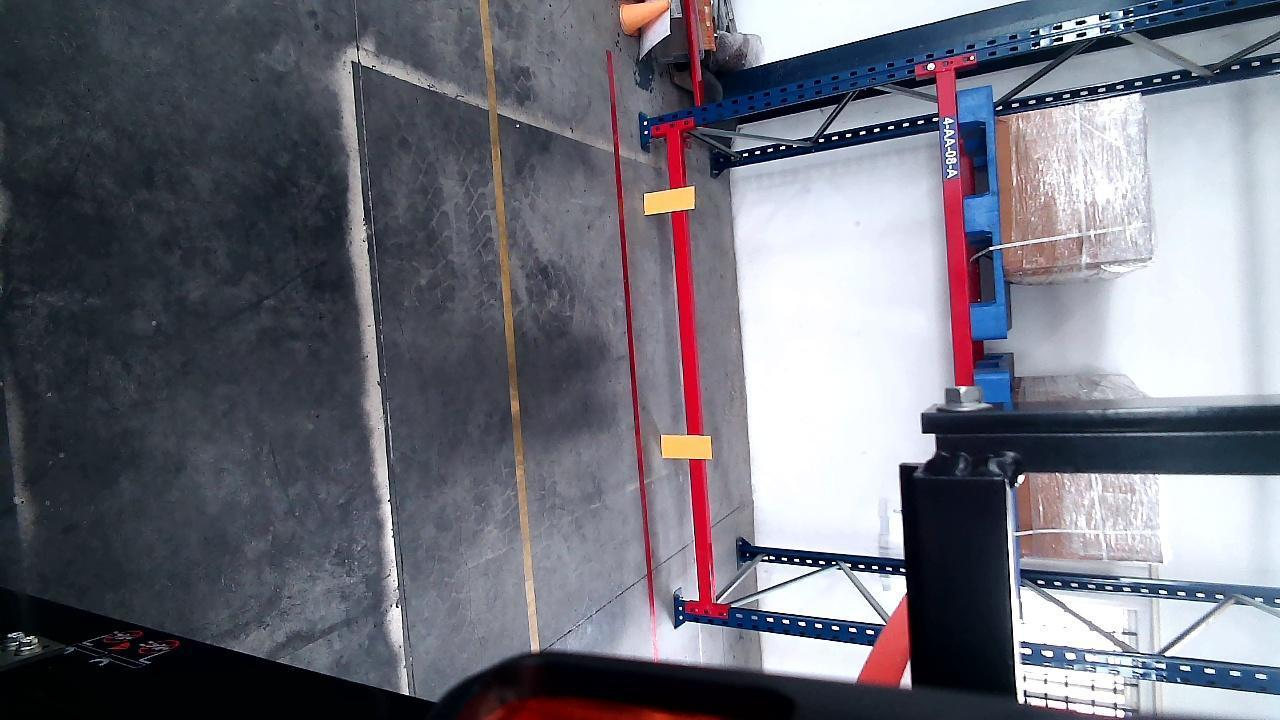h_rack: (669, 121, 715, 622), (937, 72, 970, 383)
orange_strip: (643, 186, 693, 213), (660, 433, 709, 458)
red_line: (601, 51, 656, 630)
small_pallet: (958, 86, 1005, 342)
